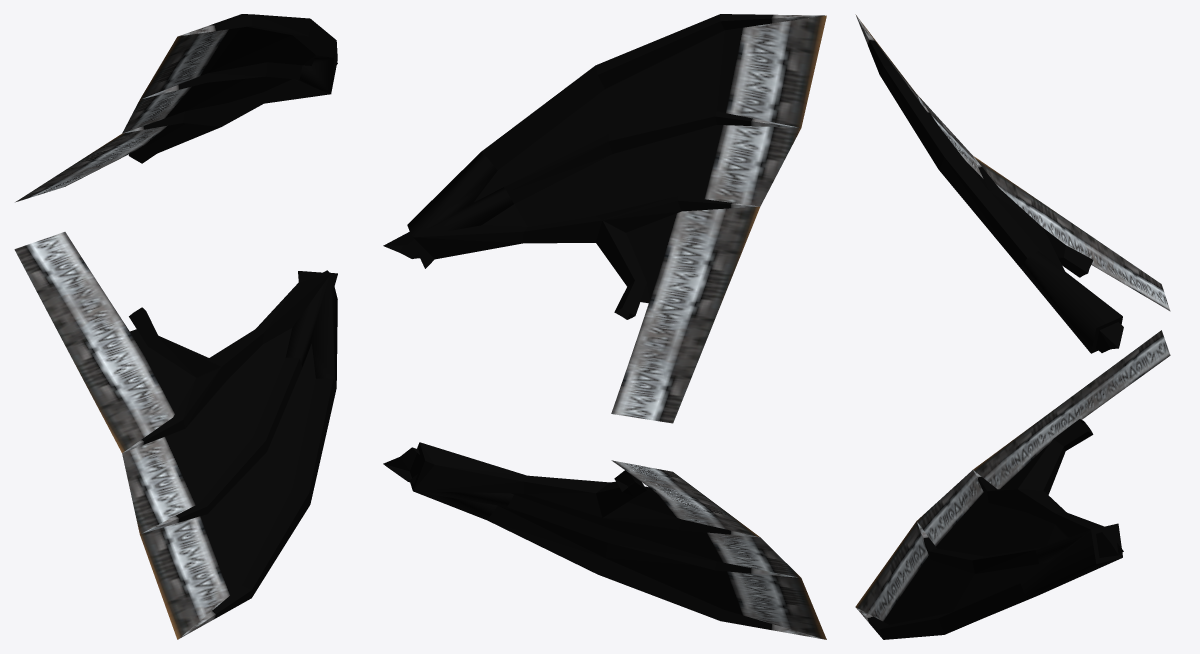
The model's file is Slaughterer_Wing_Warrior0.FBX.
3 renders of one model, left to right at view 1: azimuth 30°, elevation 25°; view 2: azimuth 150°, elevation 25°; view 3: azimuth 270°, elevation 25°, orthographic. The views are drawn at different scales.
Parts seen in each view (by area): view 1: Wing01; view 2: Wing01; view 3: Wing01.
Part boxes in pixels (x1,y1,x2,y2): Wing01: [14, 14, 337, 639]; Wing01: [383, 14, 826, 639]; Wing01: [855, 14, 1170, 639].
Size of the model in its own units: 1.35 by 2.56 by 1.29.
